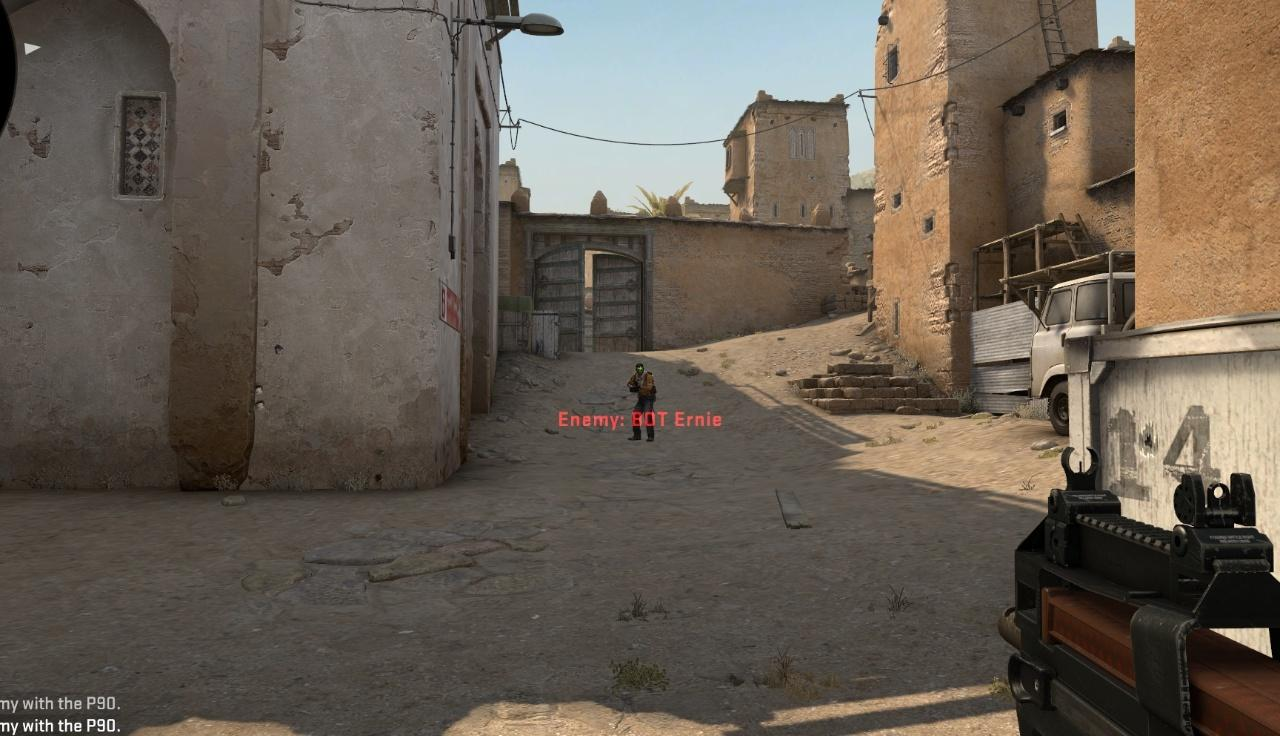rifle: (1015, 445, 1280, 736)
tt: (629, 364, 655, 442)
tthead: (636, 364, 644, 374)
